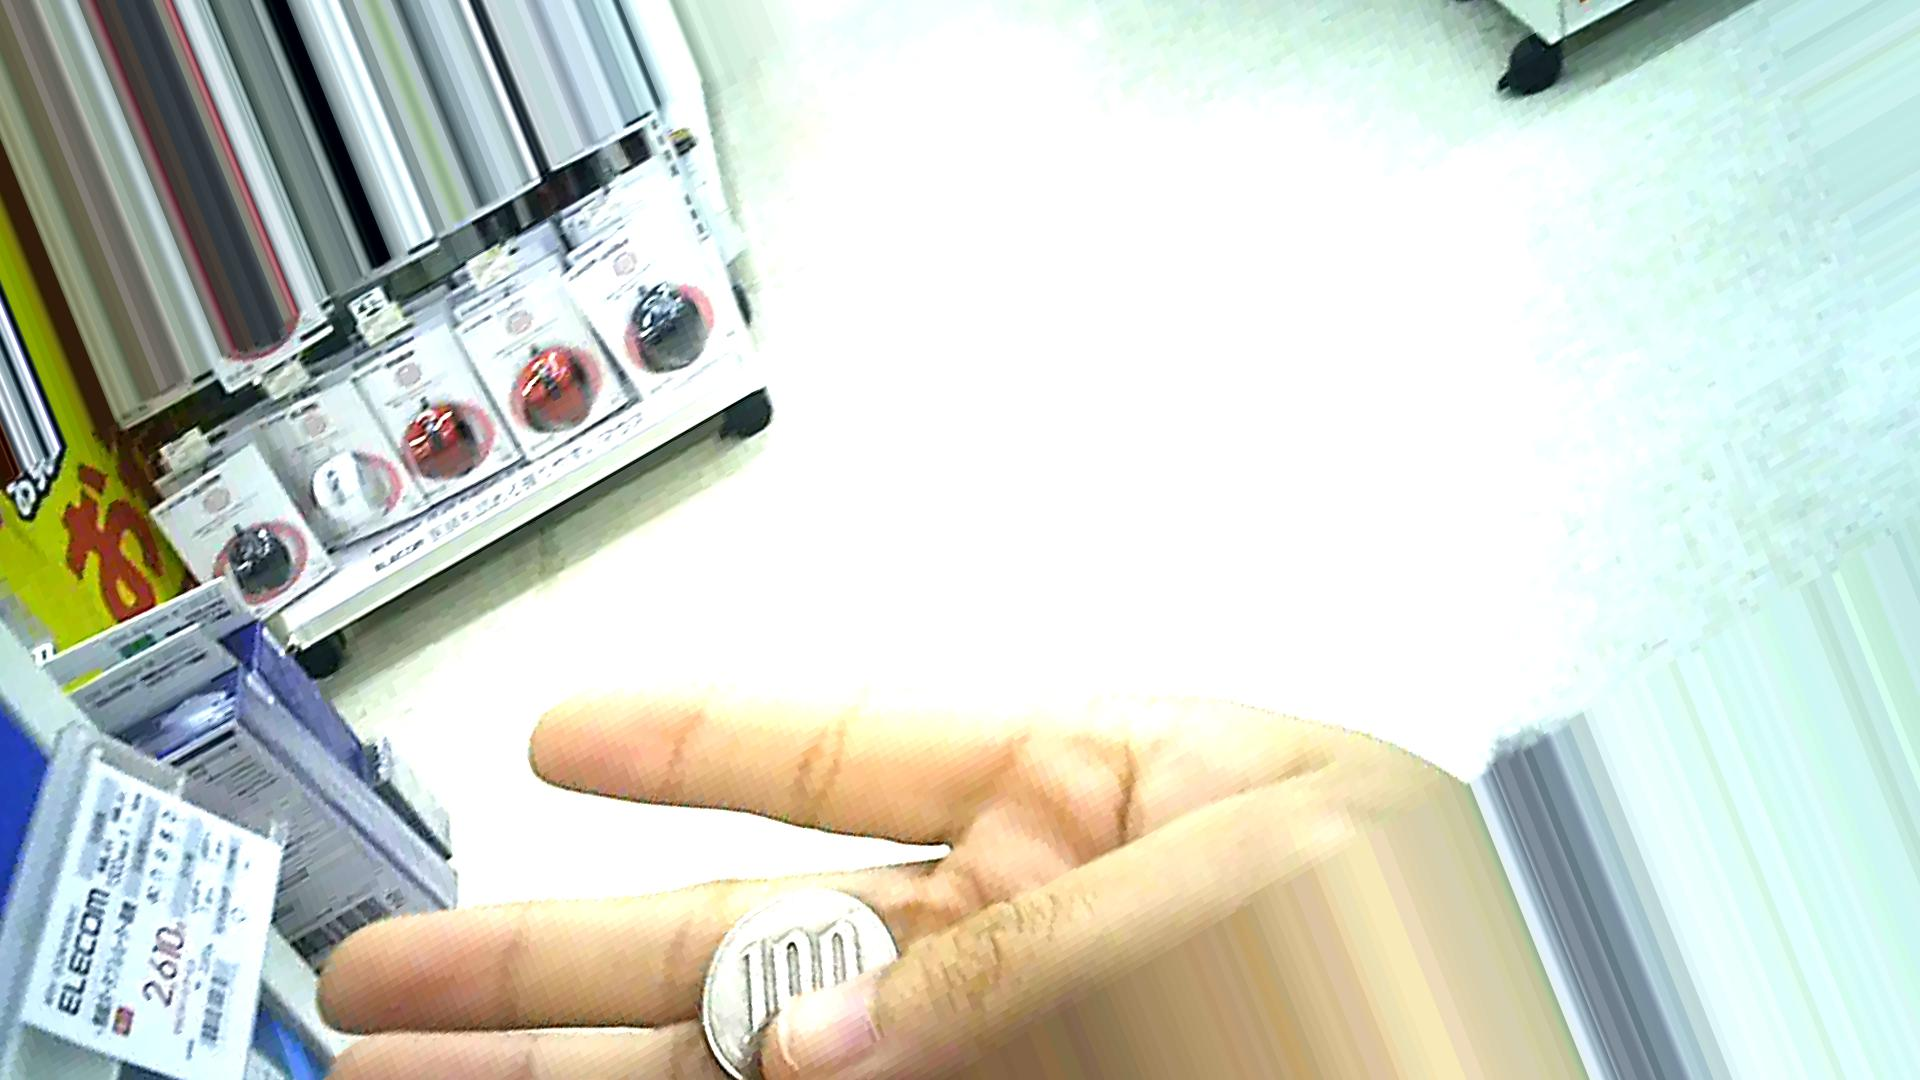100 Yen: (700, 884, 910, 1071)
